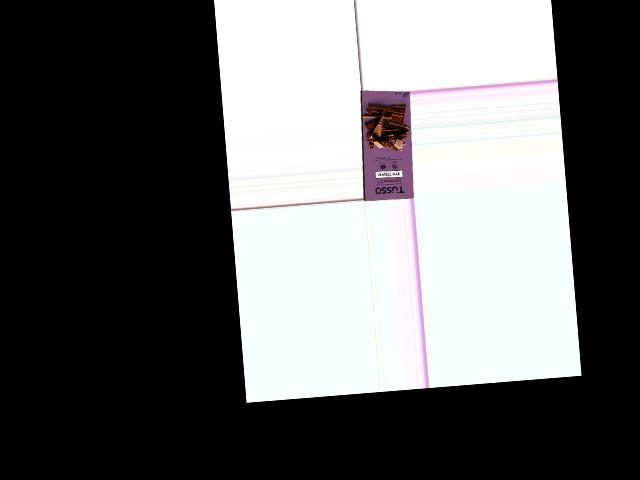chocolate: (358, 86, 415, 199)
